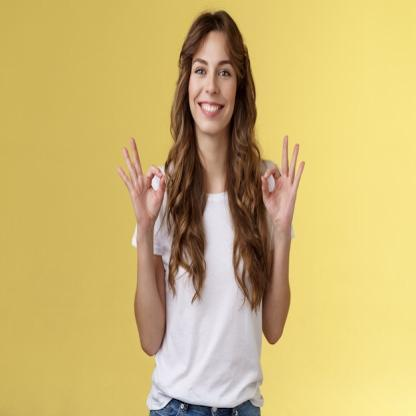ok: (114, 134, 168, 232), (260, 132, 306, 230)
